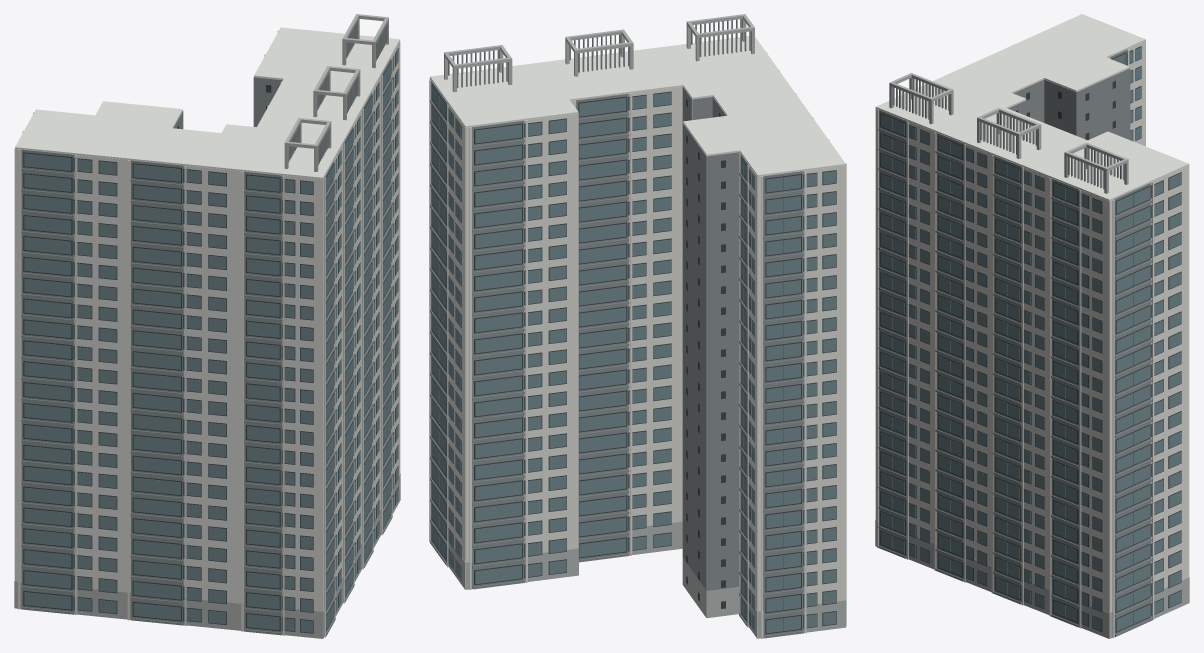
The model's file is bespoke-mapo-grang-xi-110.glb.
3 renders of one model, left to right at view 1: azimuth 30°, elevation 25°; view 2: azimuth 150°, elevation 25°; view 3: azimuth 270°, elevation 25°, orthographic. The views are drawn at different scales.
Parts seen in each view (by area): view 1: Grang110_editable_Grang110_broad_white_facade_frames, Grang110_editable_Grang110_turquoise_balcony_glazing, Grang110_editable_Grang110_slate_vertical_window_banks, Grang110_editable_Grang110_deep_window_recess_surrounds, Grang110_editable_Grang110_light_grey_solid_wall, Grang110_editable_Grang110_dark_horizontal_spandrels_and_mul; view 2: Grang110_editable_Grang110_broad_white_facade_frames, Grang110_editable_Grang110_turquoise_balcony_glazing, Grang110_editable_Grang110_slate_vertical_window_banks, Grang110_editable_Grang110_deep_window_recess_surrounds, Grang110_editable_Grang110_light_grey_solid_wall, Grang110_editable_Grang110_dark_horizontal_spandrels_and_mul; view 3: Grang110_editable_Grang110_broad_white_facade_frames, Grang110_editable_Grang110_turquoise_balcony_glazing, Grang110_editable_Grang110_slate_vertical_window_banks, Grang110_editable_Grang110_deep_window_recess_surrounds, Grang110_editable_Grang110_light_grey_solid_wall, Grang110_editable_Grang110_dark_horizontal_spandrels_and_mul.
Part boxes in pixels (x1,y1,x2,y2): Grang110_editable_Grang110_broad_white_facade_frames: (14,27,400,637); Grang110_editable_Grang110_turquoise_balcony_glazing: (24,49,398,632); Grang110_editable_Grang110_slate_vertical_window_banks: (21,20,392,636); Grang110_editable_Grang110_deep_window_recess_surrounds: (23,48,398,633); Grang110_editable_Grang110_light_grey_solid_wall: (14,14,400,638); Grang110_editable_Grang110_dark_horizontal_spandrels_and_mul: (47,70,387,628); Grang110_editable_Grang110_broad_white_facade_frames: (429,36,846,638); Grang110_editable_Grang110_turquoise_balcony_glazing: (431,86,835,633); Grang110_editable_Grang110_slate_vertical_window_banks: (430,19,803,638); Grang110_editable_Grang110_deep_window_recess_surrounds: (431,84,836,634); Grang110_editable_Grang110_light_grey_solid_wall: (430,14,846,638); Grang110_editable_Grang110_dark_horizontal_spandrels_and_mul: (438,96,784,631); Grang110_editable_Grang110_broad_white_facade_frames: (875,14,1189,637); Grang110_editable_Grang110_turquoise_balcony_glazing: (881,47,1181,631); Grang110_editable_Grang110_slate_vertical_window_banks: (878,49,1152,636); Grang110_editable_Grang110_deep_window_recess_surrounds: (880,46,1181,632); Grang110_editable_Grang110_light_grey_solid_wall: (875,73,1189,638); Grang110_editable_Grang110_dark_horizontal_spandrels_and_mul: (892,57,1133,624).
Size of the model in its own units: 54.68 by 63.6 by 39.05.
